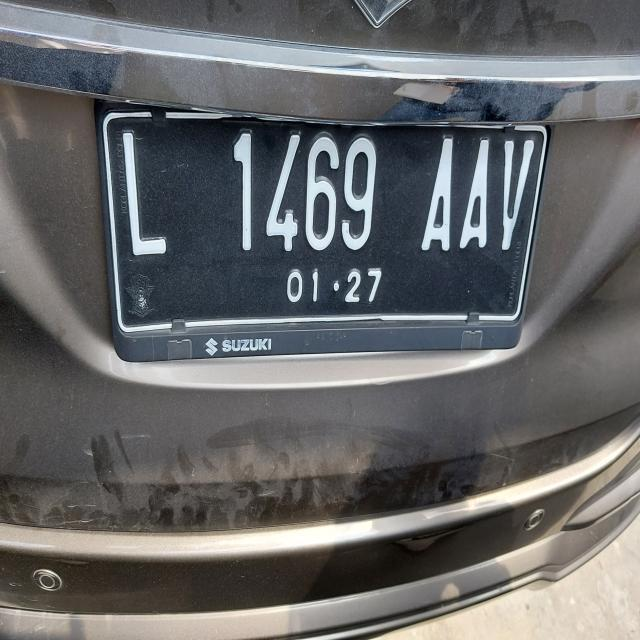1: (216, 117, 270, 292)
4: (260, 117, 307, 257)
6: (302, 126, 346, 278)
9: (335, 106, 392, 280)
A: (414, 112, 464, 279), (461, 128, 498, 284)
L: (114, 108, 190, 262)
V: (494, 116, 546, 278)
